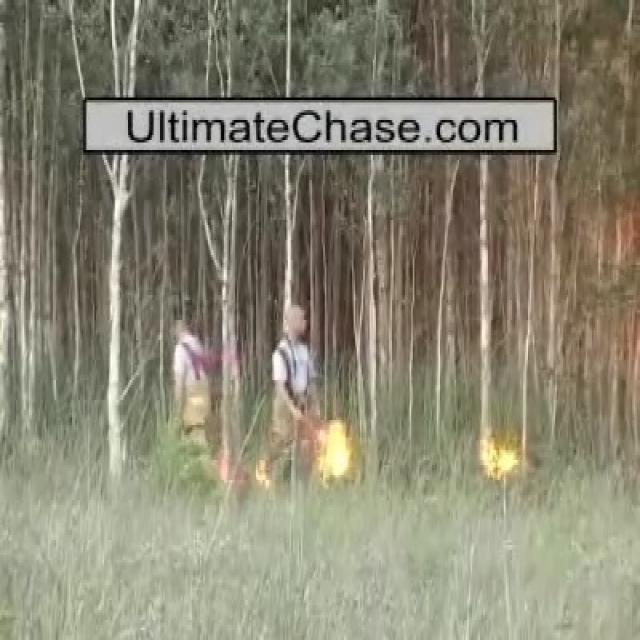fire: (481, 431, 516, 478), (323, 423, 350, 475)
